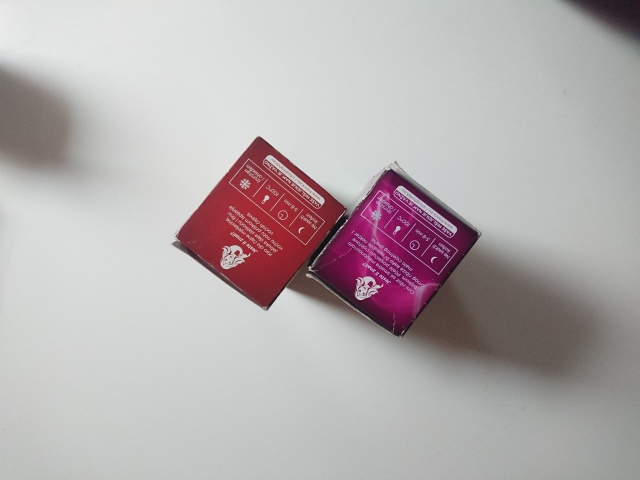Franck Apple Cinnamon Tea 60g: (172, 133, 351, 314)
Franck Black Currant Tea 60g: (303, 158, 485, 341)
